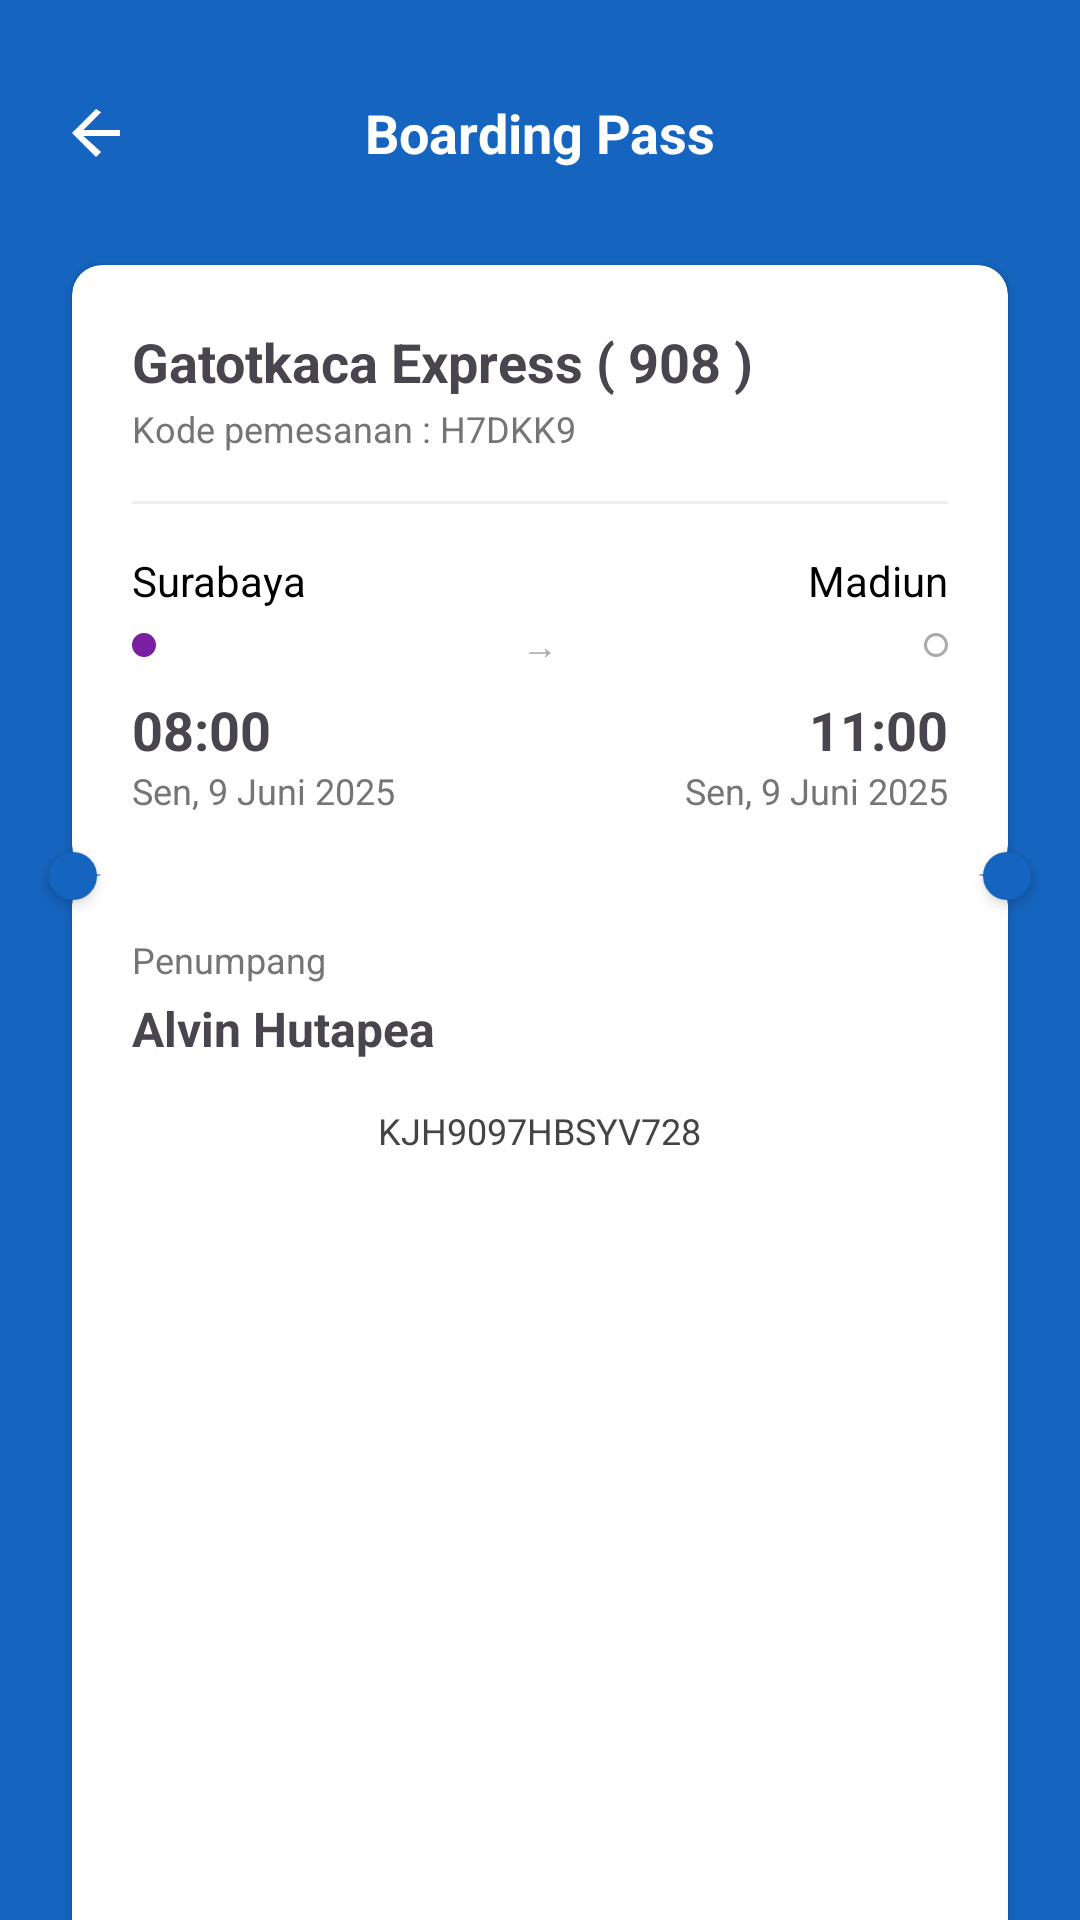

Icons on this 1080 x 1920 Android screen, each with its box as (x1, y1, x2, y2):
Tombol kembali: (72, 109, 120, 157)
